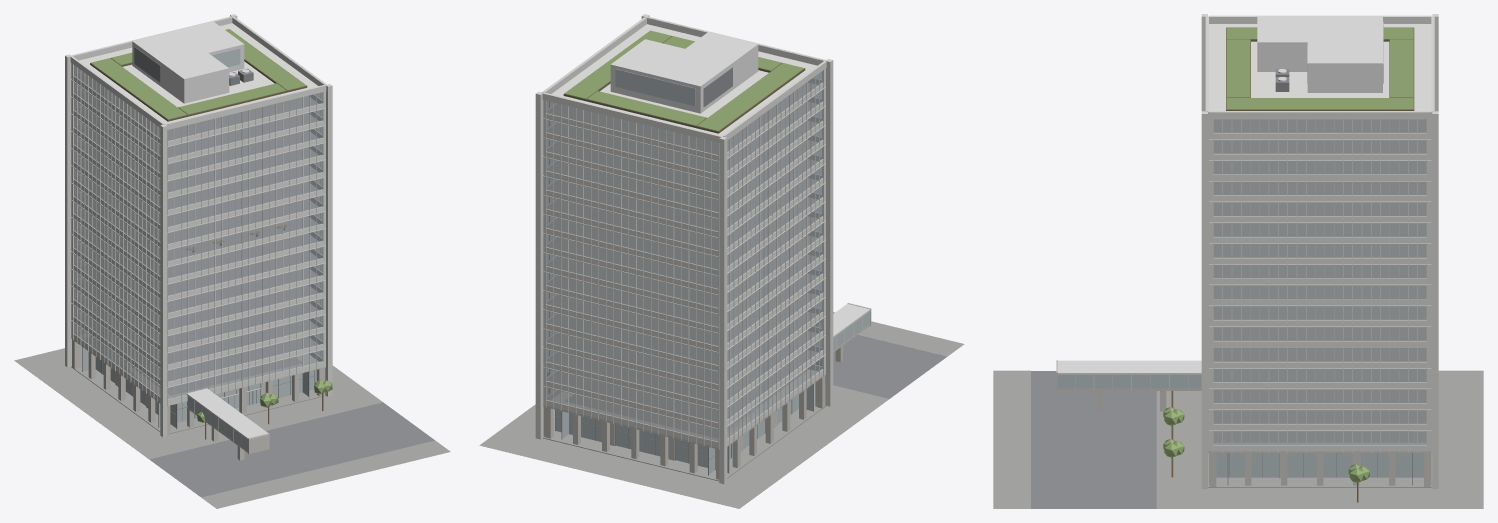
Rendered from clay-plus15-glass-office-tower-clay-v001.glb.
3 renders of one model, left to right at view 1: azimuth 30°, elevation 25°; view 2: azimuth 150°, elevation 25°; view 3: azimuth 270°, elevation 25°, orthographic. The views are drawn at different scales.
Visible parts, largest first — view 1: CLAY_GLASS, CLAY_PALE, CLAY_FLOOR, CLAY_METAL, CLAY_FOUNDATION, CLAY_HARDWARE, CLAY_PLANTING, CLAY_CONCRETE, CLAY_LIGHTGLASS, CLAY_MEMBRANE, CLAY_SOIL; view 2: CLAY_GLASS, CLAY_PALE, CLAY_FLOOR, CLAY_METAL, CLAY_FOUNDATION, CLAY_HARDWARE, CLAY_CONCRETE, CLAY_LIGHTGLASS, CLAY_PLANTING, CLAY_MEMBRANE, CLAY_SOIL; view 3: CLAY_GLASS, CLAY_FLOOR, CLAY_PALE, CLAY_METAL, CLAY_FOUNDATION, CLAY_HARDWARE, CLAY_PLANTING, CLAY_LIGHTGLASS, CLAY_MEMBRANE, CLAY_CONCRETE, CLAY_SOIL.
Part boxes in pixels (x1,y1,x2,y2): CLAY_GLASS: [74, 65, 322, 398]; CLAY_PALE: [65, 14, 332, 437]; CLAY_FLOOR: [78, 75, 318, 395]; CLAY_METAL: [71, 21, 325, 446]; CLAY_FOUNDATION: [14, 346, 450, 508]; CLAY_HARDWARE: [82, 47, 434, 497]; CLAY_PLANTING: [91, 29, 332, 422]; CLAY_CONCRETE: [71, 333, 325, 460]; CLAY_LIGHTGLASS: [82, 48, 314, 450]; CLAY_MEMBRANE: [79, 23, 318, 123]; CLAY_SOIL: [90, 58, 307, 121]; CLAY_GLASS: [546, 71, 822, 441]; CLAY_PALE: [535, 14, 833, 484]; CLAY_FLOOR: [551, 82, 817, 439]; CLAY_METAL: [543, 32, 870, 449]; CLAY_FOUNDATION: [479, 312, 964, 508]; CLAY_HARDWARE: [555, 67, 946, 475]; CLAY_CONCRETE: [543, 303, 871, 479]; CLAY_LIGHTGLASS: [555, 69, 869, 474]; CLAY_PLANTING: [547, 30, 821, 375]; CLAY_MEMBRANE: [551, 24, 817, 135]; CLAY_SOIL: [563, 36, 805, 133]; CLAY_GLASS: [1213, 119, 1426, 444]; CLAY_FLOOR: [1213, 119, 1426, 442]; CLAY_PALE: [1201, 14, 1438, 488]; CLAY_METAL: [1058, 15, 1431, 453]; CLAY_FOUNDATION: [993, 370, 1483, 508]; CLAY_HARDWARE: [1031, 69, 1423, 508]; CLAY_PLANTING: [1163, 27, 1413, 482]; CLAY_LIGHTGLASS: [1058, 21, 1423, 477]; CLAY_MEMBRANE: [1209, 24, 1431, 110]; CLAY_CONCRETE: [1056, 360, 1431, 486]; CLAY_SOIL: [1226, 27, 1414, 110].
Bounding box in the file's own units: 52 × 70.3 × 78.
